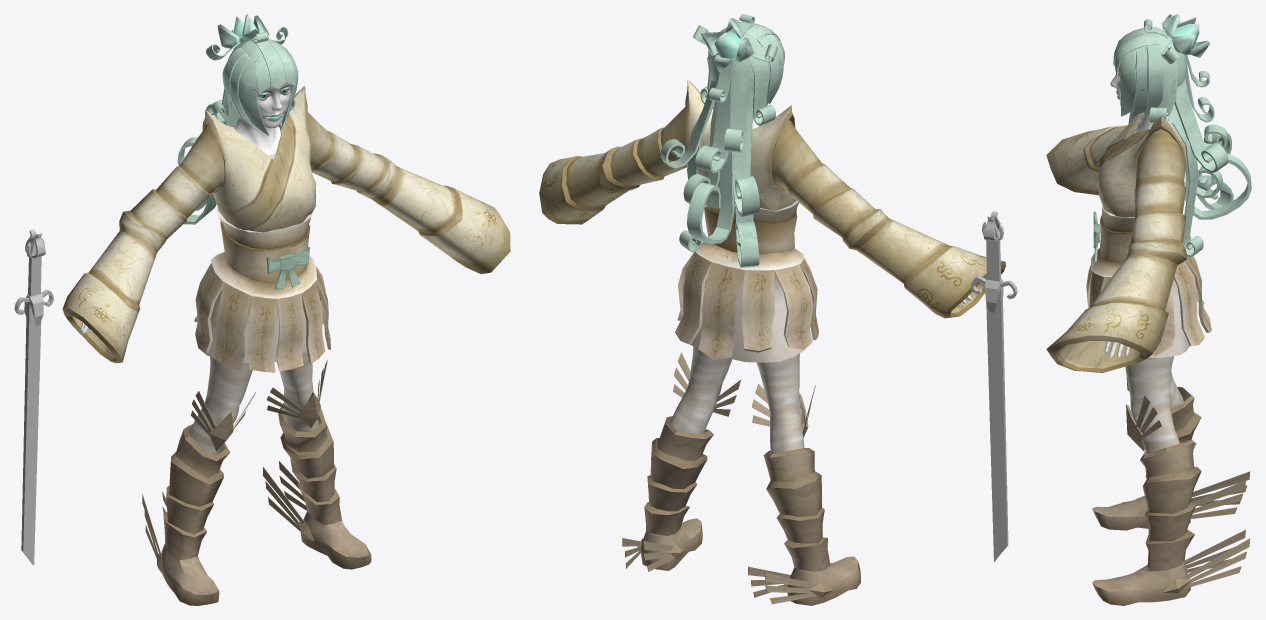
Rendered from papiromancer final.fbx.
3 renders of one model, left to right at view 1: azimuth 30°, elevation 25°; view 2: azimuth 150°, elevation 25°; view 3: azimuth 270°, elevation 25°, orthographic. The views are drawn at different scales.
Parts seen in each view (by area): view 1: polySurface28, polySurface62, polySurface70, polySurface10, polySurface69, polySurface76; view 2: polySurface28, polySurface62, polySurface69, polySurface70, polySurface10, polySurface76; view 3: polySurface28, polySurface10, polySurface69, polySurface62, polySurface70.
Boxes of the visible parts, <box> form: polySurface28: <box>62,86,510,363</box>; polySurface62: <box>194,206,331,372</box>; polySurface70: <box>142,356,255,605</box>; polySurface10: <box>262,351,371,569</box>; polySurface69: <box>177,14,298,224</box>; polySurface76: <box>14,229,53,564</box>; polySurface28: <box>539,80,1005,318</box>; polySurface62: <box>675,200,818,362</box>; polySurface69: <box>660,14,784,267</box>; polySurface70: <box>748,353,860,605</box>; polySurface10: <box>622,346,740,571</box>; polySurface76: <box>971,211,1017,561</box>; polySurface28: <box>1046,114,1187,372</box>; polySurface10: <box>1092,356,1250,605</box>; polySurface69: <box>1110,14,1251,256</box>; polySurface62: <box>1086,204,1211,357</box>; polySurface70: <box>1092,372,1250,530</box>.
Bounding box in the file's own units: 3.61 × 4.05 × 1.38.
